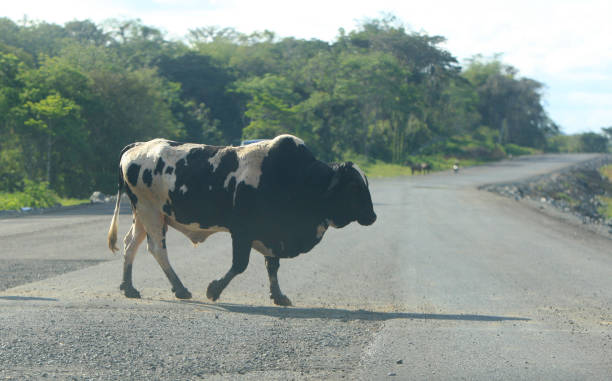inek: (104, 129, 389, 327)
